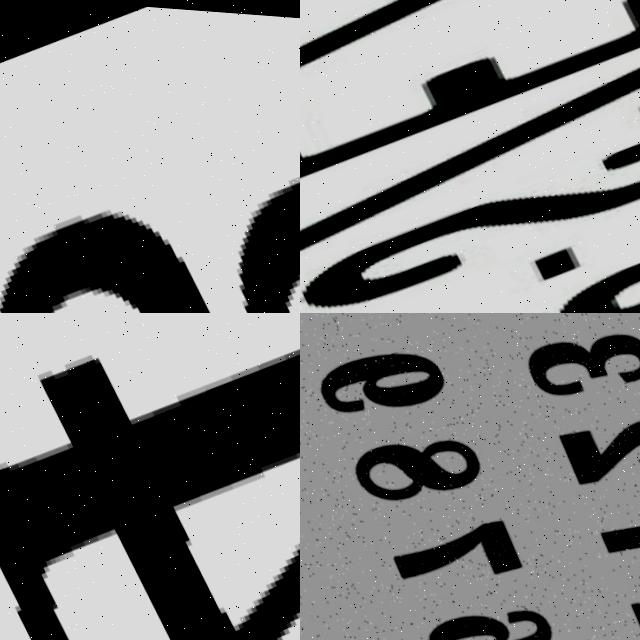1: (560, 448, 640, 605)
2: (532, 362, 640, 520)
3: (495, 313, 640, 432)
4: (466, 313, 640, 346)
6: (397, 555, 579, 640)
7: (300, 0, 640, 292), (300, 0, 640, 146), (350, 468, 546, 628)
8: (324, 378, 521, 541)
9: (300, 313, 479, 457)
E: (300, 0, 640, 227)
G: (0, 52, 300, 313)
L: (352, 230, 640, 313)
P: (336, 155, 640, 313)
S: (300, 50, 640, 313)
Z: (300, 0, 640, 89)
